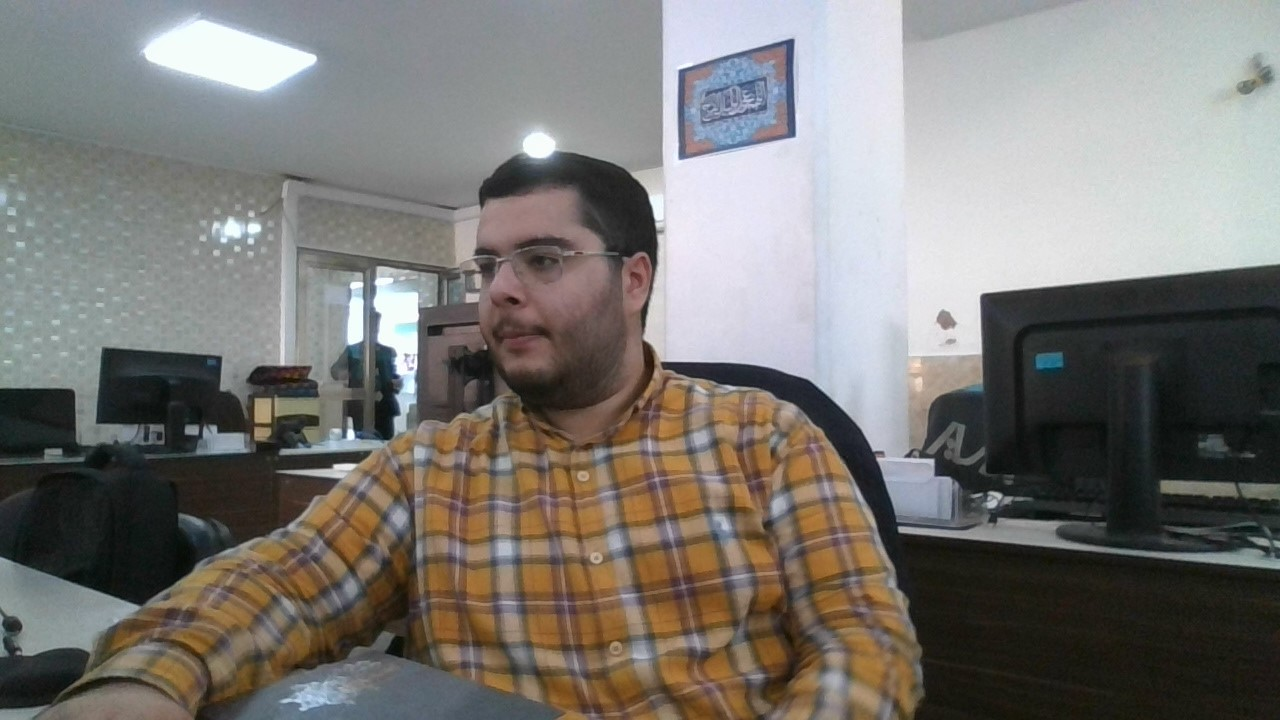NoMask: (468, 270, 632, 406)
